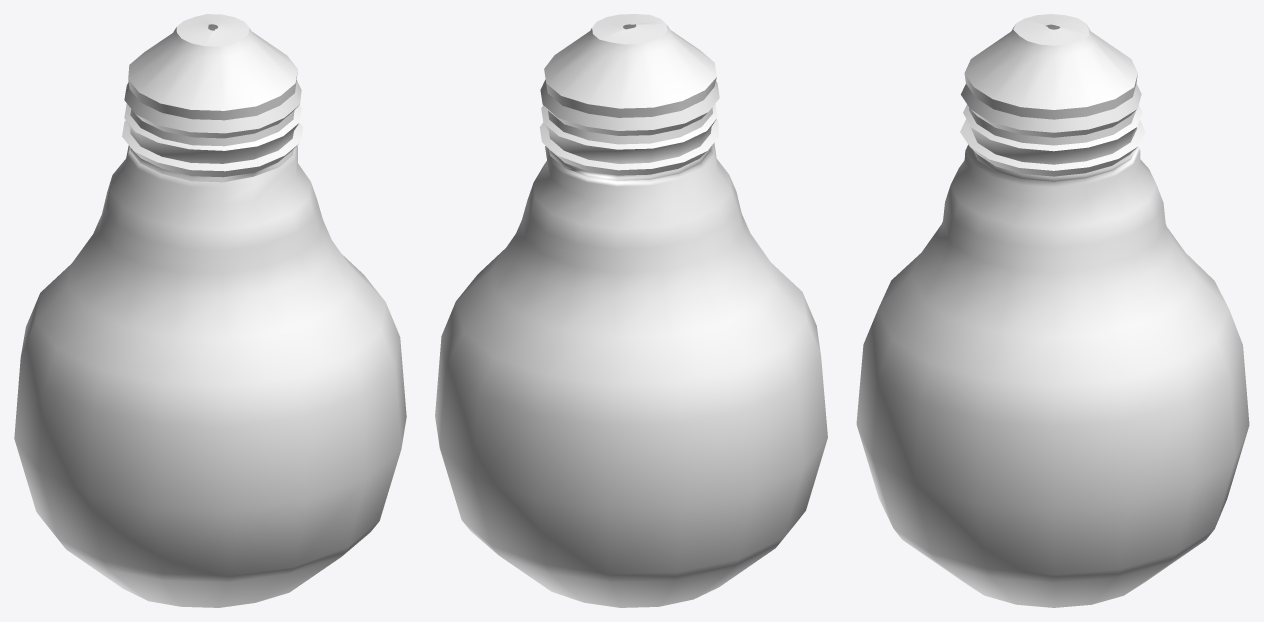
The model's file is LightbulbModel.obj.
The picture shows the model from 3 angles, left to right: view 1: azimuth 30°, elevation 25°; view 2: azimuth 150°, elevation 25°; view 3: azimuth 270°, elevation 25°; orthographic projection.
Visible parts, largest first — view 1: Lightbulb_Mesh; view 2: Lightbulb_Mesh; view 3: Lightbulb_Mesh.
Boxes of the visible parts, left/top/right/bottom form: Lightbulb_Mesh: left=14, top=14, right=406, bottom=607; Lightbulb_Mesh: left=435, top=14, right=827, bottom=607; Lightbulb_Mesh: left=856, top=14, right=1249, bottom=607.
Bounding box in the file's own units: 0.2079 × 0.3231 × 0.2061.
Materials: 2 (2 with a texture image).
